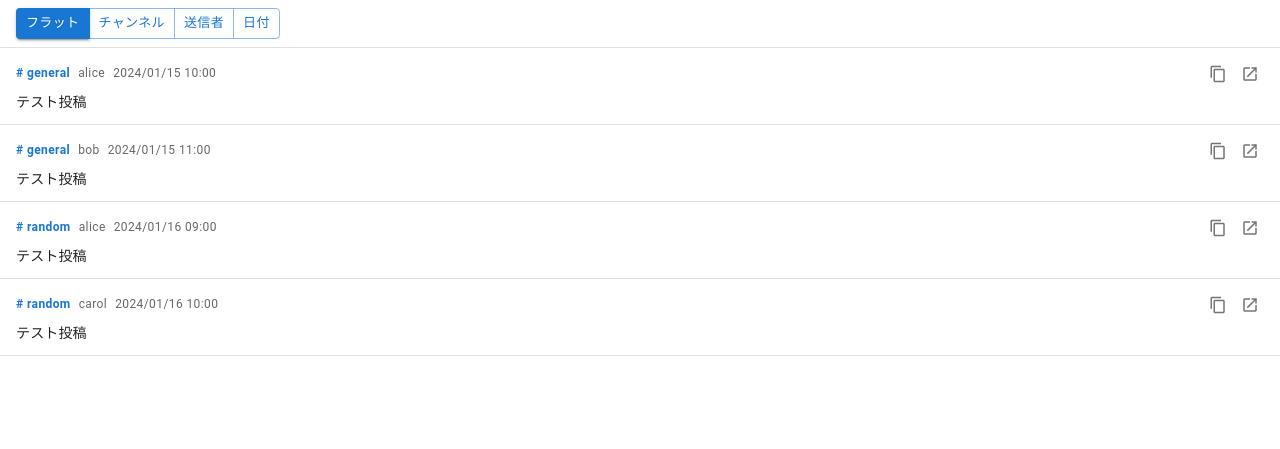
Scenario: 検索結果グルーピング › 日付別グルーピング › 日付別選択時、各日付のヘッダーが表示される
Step 1. Click the button "日付" → (256,23), box [233, 8, 280, 39]
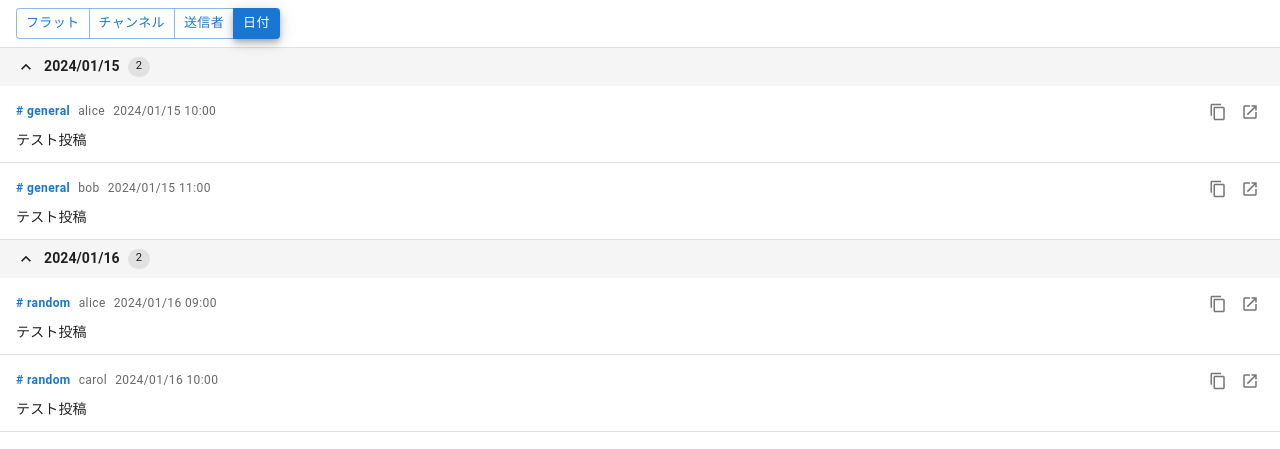
Now the number of elements with test id "group-header" is 2, box [0, 48, 1279, 86]; [0, 240, 1279, 278]
